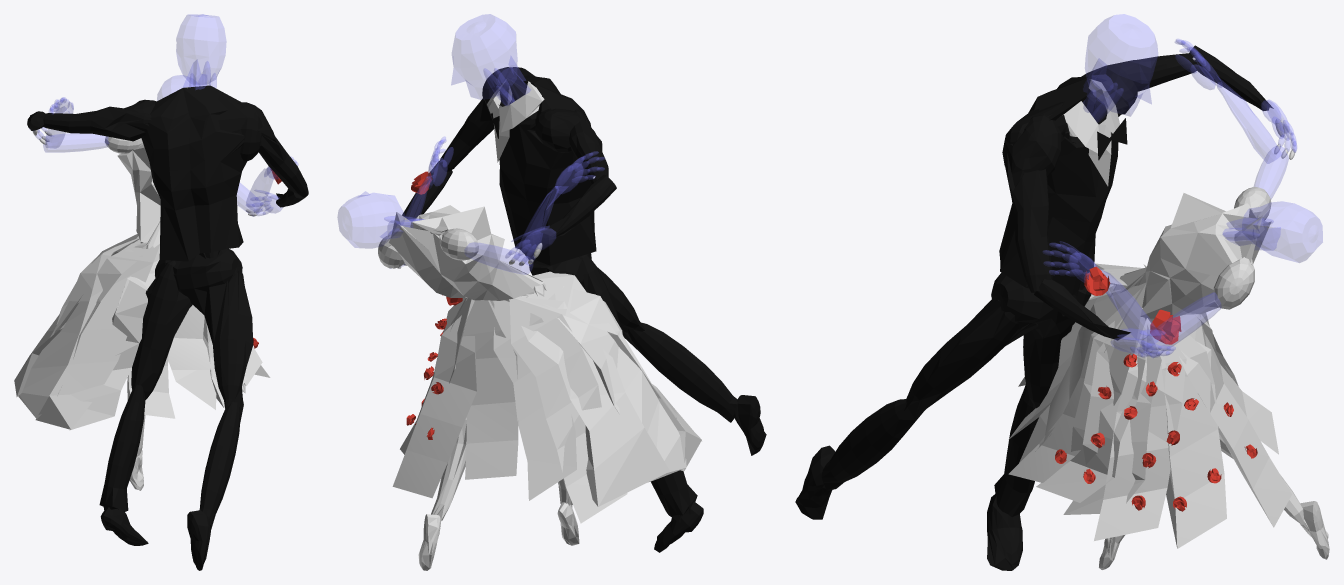
The picture shows the model from 3 angles, left to right: view 1: azimuth 30°, elevation 25°; view 2: azimuth 150°, elevation 25°; view 3: azimuth 270°, elevation 25°; orthographic projection. The views are drawn at different scales.
Parts seen in each view (by area): view 1: node_MeshObject-523207680-PolyPaper21, node_MeshObject911364096-PolyGlass24, node_MeshObject1483443200-PolyGlass24, node_MeshObject-1376952320-PolyPaper21; view 2: node_MeshObject-523207680-PolyPaper21, node_MeshObject911364096-PolyGlass24, node_MeshObject1483443200-PolyGlass24, node_MeshObject-1376952320-PolyPaper21; view 3: node_MeshObject-523207680-PolyPaper21, node_MeshObject911364096-PolyGlass24, node_MeshObject-1376952320-PolyPaper21, node_MeshObject1483443200-PolyGlass24, node_MeshObject-232794112-PolyPaper21.
Boxes of the visible parts, <box> form: node_MeshObject-523207680-PolyPaper21: <box>14,85,308,570</box>; node_MeshObject911364096-PolyGlass24: <box>29,14,298,216</box>; node_MeshObject1483443200-PolyGlass24: <box>43,97,279,212</box>; node_MeshObject-1376952320-PolyPaper21: <box>32,87,305,247</box>; node_MeshObject-523207680-PolyPaper21: <box>378,67,766,570</box>; node_MeshObject911364096-PolyGlass24: <box>337,14,585,268</box>; node_MeshObject1483443200-PolyGlass24: <box>405,151,604,274</box>; node_MeshObject-1376952320-PolyPaper21: <box>397,67,544,439</box>; node_MeshObject-523207680-PolyPaper21: <box>795,45,1329,570</box>; node_MeshObject911364096-PolyGlass24: <box>1042,14,1322,357</box>; node_MeshObject-1376952320-PolyPaper21: <box>1005,79,1295,458</box>; node_MeshObject1483443200-PolyGlass24: <box>1084,39,1288,346</box>; node_MeshObject-232794112-PolyPaper21: <box>1063,101,1105,153</box>.
Size of the model in its own units: 1.63 by 2.9 by 2.25.
